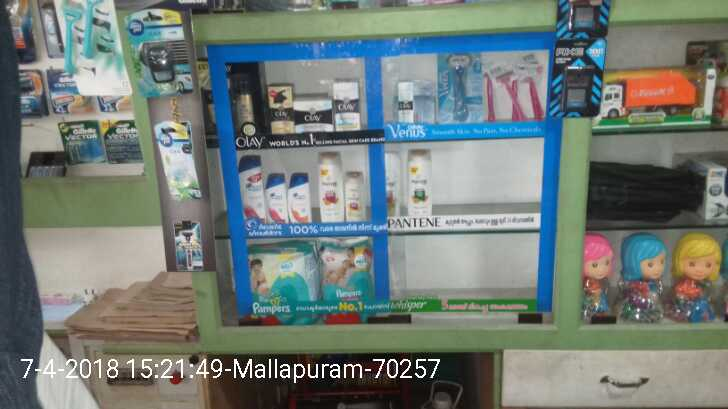ambipureVesus: (126, 5, 192, 96), (156, 123, 199, 200)
gillete: (103, 117, 143, 164), (66, 117, 100, 166), (173, 222, 203, 275), (46, 70, 76, 113), (18, 70, 40, 119)
venus: (437, 52, 480, 124), (61, 1, 101, 64), (498, 67, 523, 120), (524, 68, 544, 119), (484, 67, 494, 120)
